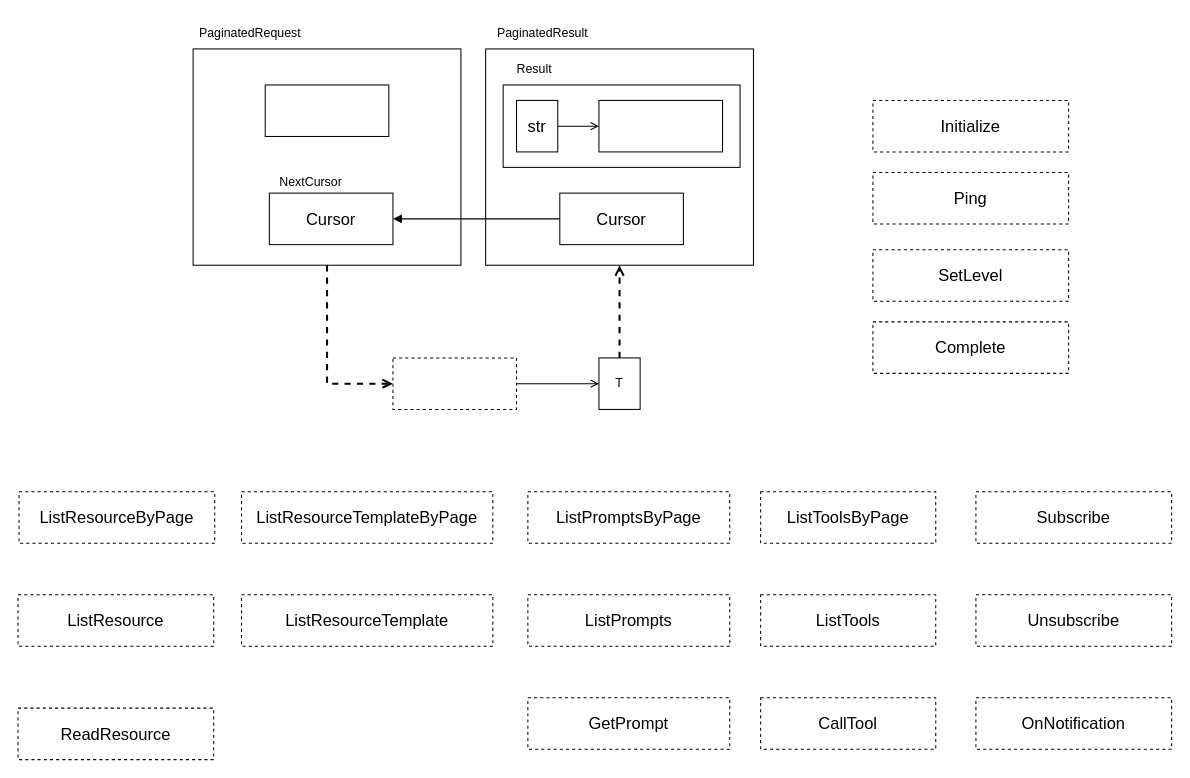
Image size: 1190x778. Some labels were removed from this diagram. The shapes that lost their labels are listed below. From the top down, each one's centre as x and y in pixels, then its label:
At (326,110): "Request".
At (660,125): "interface{}".
At (454,383): "listByPage".
